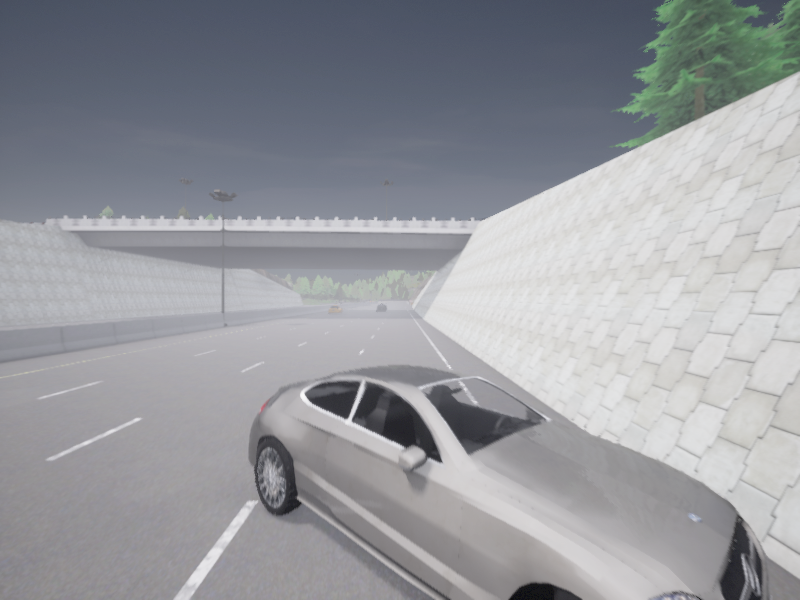vehicle: (249, 364, 772, 599), (328, 305, 342, 313), (377, 303, 386, 311)
